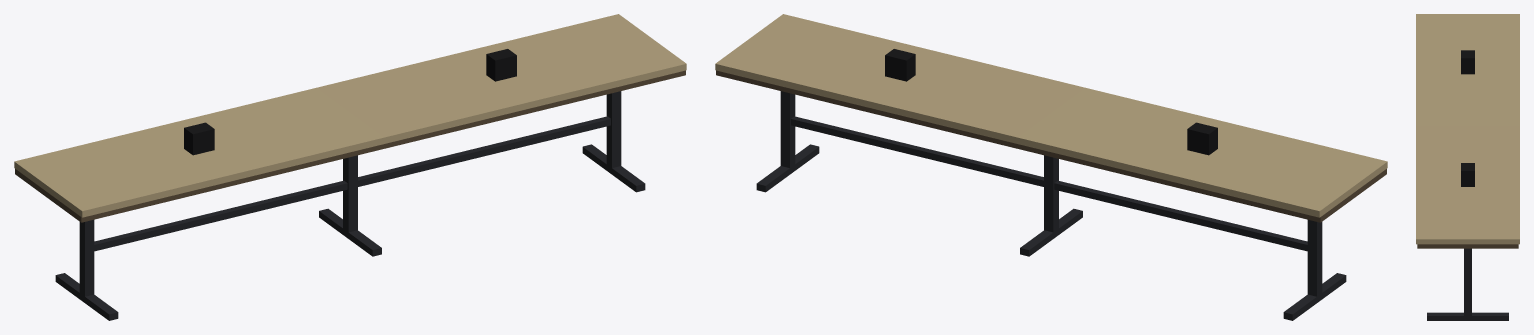
The model's file is table.mess.bare.glb.
3 renders of one model, left to right at view 1: azimuth 30°, elevation 25°; view 2: azimuth 150°, elevation 25°; view 3: azimuth 270°, elevation 25°, orthographic. The views are drawn at different scales.
Visible parts, largest first — view 1: table_mess_bare; view 2: table_mess_bare; view 3: table_mess_bare.
Part boxes in pixels (<box>): table_mess_bare: <box>14,14,686,320</box>; table_mess_bare: <box>715,14,1387,320</box>; table_mess_bare: <box>1416,14,1519,320</box>.
Size of what is drawn, in the model's own units: 3.9 by 0.89 by 0.76.
